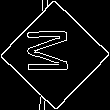M_E: (30, 32, 80, 78)
